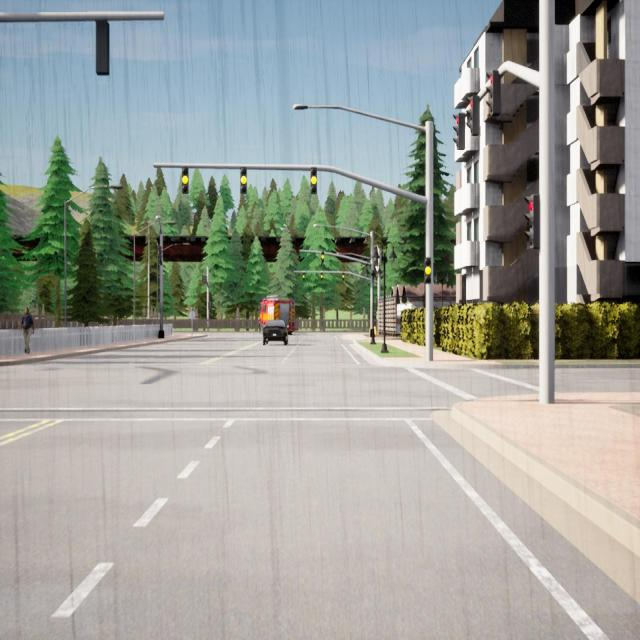Pedestrian: (20, 308, 34, 353)
Traffic_Signs: (190, 312, 195, 319)
Vehicle: (260, 294, 294, 336), (263, 320, 287, 345)
traffic_light: (524, 194, 540, 249), (96, 20, 109, 74), (486, 71, 500, 115), (467, 95, 480, 136), (453, 114, 465, 150), (310, 167, 318, 194), (240, 167, 247, 194), (425, 257, 431, 284), (182, 167, 188, 194), (321, 252, 324, 262), (302, 272, 305, 281), (320, 272, 323, 280), (342, 273, 344, 280), (202, 275, 204, 282), (209, 302, 210, 309), (205, 276, 206, 283)
